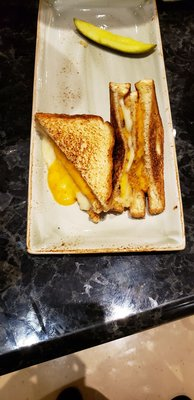pasta: (72, 18, 155, 55)
soup: (34, 112, 115, 210), (108, 78, 165, 217)
